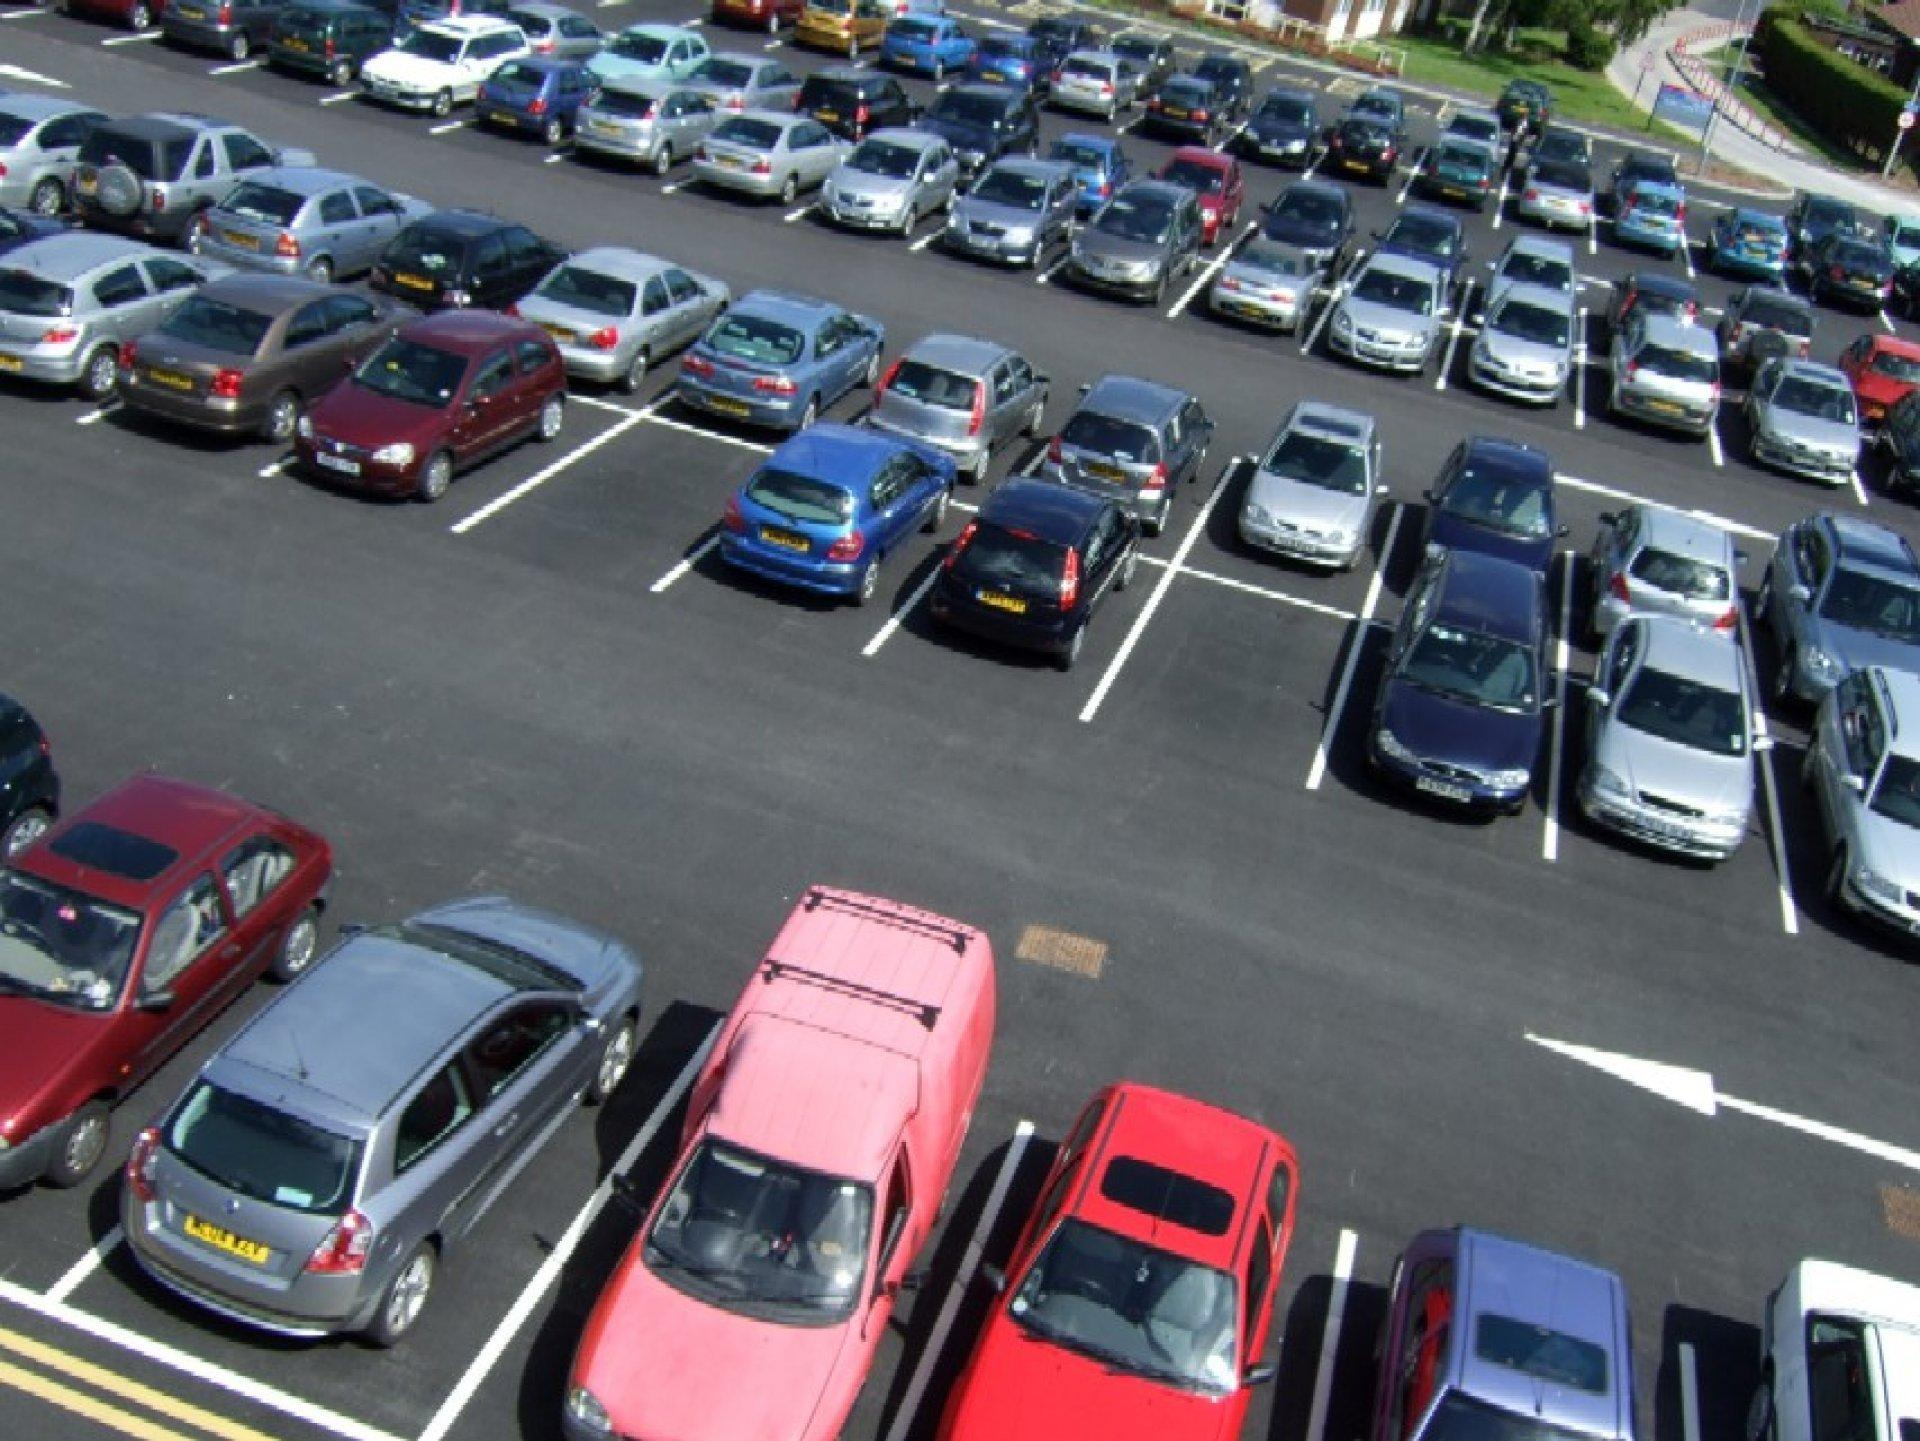empty: (106, 902, 626, 1373), (540, 937, 977, 1441), (947, 1078, 1312, 1438), (11, 783, 269, 1271), (1356, 459, 1590, 831), (1558, 516, 1776, 869), (1359, 1229, 1660, 1441), (1772, 556, 1917, 967), (306, 318, 560, 501), (918, 466, 1130, 672), (127, 272, 374, 445), (702, 433, 938, 610), (35, 104, 306, 250), (1216, 394, 1398, 578), (1749, 1255, 1918, 1441), (191, 151, 416, 277), (678, 288, 882, 425), (0, 232, 182, 386), (516, 241, 711, 380), (871, 325, 1036, 468), (1590, 289, 1743, 437), (1041, 372, 1209, 506), (1203, 203, 1353, 344), (1058, 171, 1218, 300), (1454, 250, 1587, 404), (1330, 230, 1468, 375), (378, 207, 558, 318), (1740, 339, 1873, 484), (572, 45, 711, 174), (946, 148, 1079, 274), (366, 5, 519, 114), (701, 98, 838, 203), (819, 127, 947, 236), (250, 2, 372, 85), (1595, 170, 1698, 262), (481, 48, 578, 144), (805, 65, 905, 132), (878, 8, 968, 80), (153, 2, 256, 62), (1242, 85, 1313, 165), (1319, 117, 1400, 185), (785, 0, 875, 53), (51, 2, 156, 41), (708, 0, 782, 41)
occupied: (1163, 628, 1318, 731), (579, 465, 707, 537)
